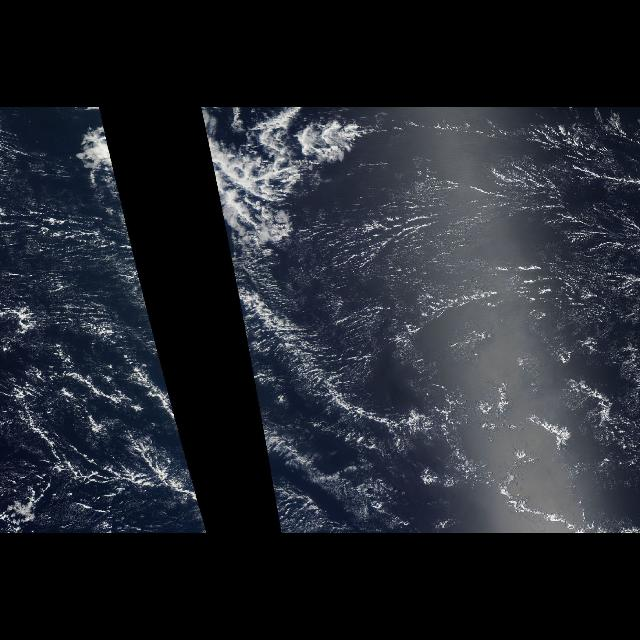Fish: (201, 112, 367, 255), (242, 291, 384, 437), (75, 112, 135, 255), (111, 454, 202, 516)
Sugar: (315, 186, 639, 502), (3, 208, 178, 512)
